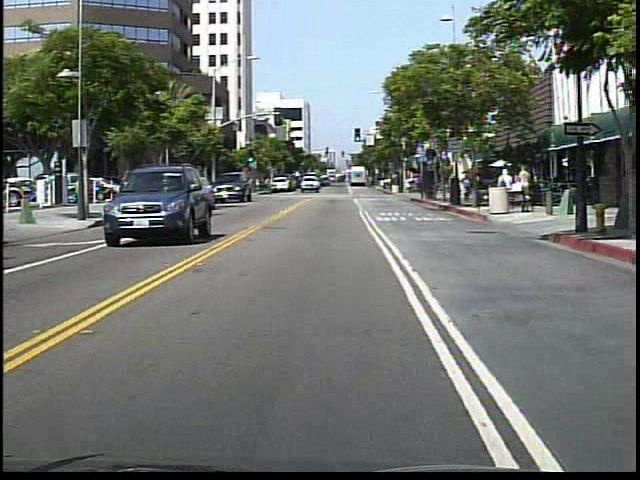person: (460, 173, 476, 205), (262, 171, 275, 198)
